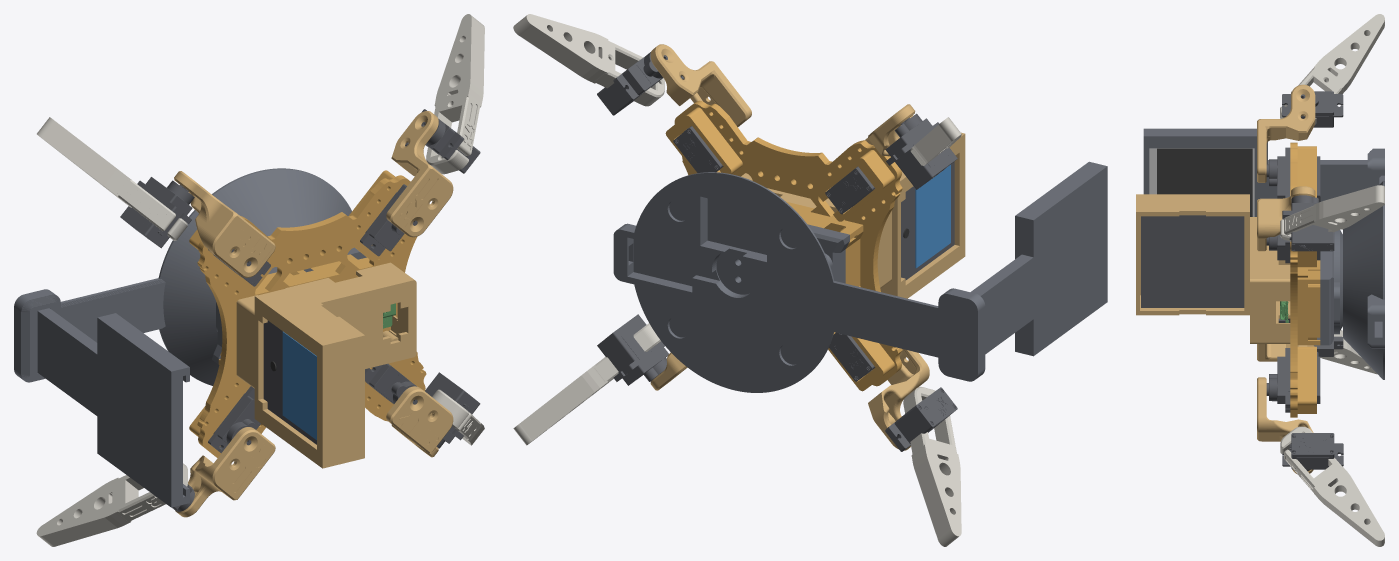
Rendered from sesant_v2_on_puck.glb.
3 views of the same model, side by side, from view 1: azimuth 30°, elevation 25°; view 2: azimuth 150°, elevation 25°; view 3: azimuth 270°, elevation 25° (orthographic). The views are drawn at different scales.
Parts seen in each view (by area): view 1: stackchan_head, puck_0, puck_1, chassis, blade_foot_R4, femur_R2, blade_foot_L3, femur_R1, blade_foot_R3, femur_L1, cores3_screen, femur_L2 (+8 smaller); view 2: puck_0, puck_1, chassis, stackchan_head, blade_foot_R4, blade_foot_L3, femur_R2, blade_foot_L4, cores3_screen, knee_servo_BL, knee_servo_FR, femur_L1 (+9 smaller); view 3: cores3, stackchan_head, puck_0, chassis, puck_1, puck_3, blade_foot_L4, blade_foot_R3, blade_foot_R4, femur_R1, knee_servo_BL, knee_servo_BR (+12 smaller).
Part boxes in pixels (x1,y1,x2,y2): stackchan_head: [236, 262, 416, 468]; puck_0: [14, 168, 351, 385]; puck_1: [37, 308, 189, 507]; chassis: [189, 170, 426, 457]; blade_foot_R4: [426, 14, 484, 174]; femur_R2: [386, 111, 453, 237]; blade_foot_L3: [36, 463, 187, 546]; femur_R1: [174, 171, 275, 277]; blade_foot_R3: [37, 117, 187, 240]; femur_L1: [175, 427, 275, 517]; cores3_screen: [282, 331, 316, 439]; femur_L2: [386, 386, 453, 457]; puck_0: [613, 172, 985, 392]; puck_1: [970, 161, 1107, 356]; chassis: [665, 100, 902, 391]; stackchan_head: [741, 132, 965, 298]; blade_foot_R4: [513, 14, 664, 106]; blade_foot_L3: [903, 386, 961, 546]; femur_R2: [650, 44, 751, 126]; blade_foot_L4: [513, 323, 661, 445]; cores3_screen: [915, 164, 950, 268]; knee_servo_BL: [597, 314, 668, 385]; knee_servo_FR: [885, 113, 957, 189]; femur_L1: [868, 349, 929, 450]; cores3: [1141, 215, 1244, 307]; stackchan_head: [1136, 194, 1290, 343]; puck_0: [1343, 148, 1384, 379]; chassis: [1290, 142, 1320, 417]; puck_1: [1143, 128, 1367, 216]; puck_3: [1157, 148, 1252, 216]; blade_foot_L4: [1280, 426, 1384, 546]; blade_foot_R3: [1280, 14, 1384, 124]; blade_foot_R4: [1280, 185, 1384, 241]; femur_R1: [1257, 84, 1315, 182]; knee_servo_BL: [1282, 433, 1343, 471]; knee_servo_BR: [1282, 195, 1334, 251].
Bounding box in the file's own units: 237 × 209 × 130.
